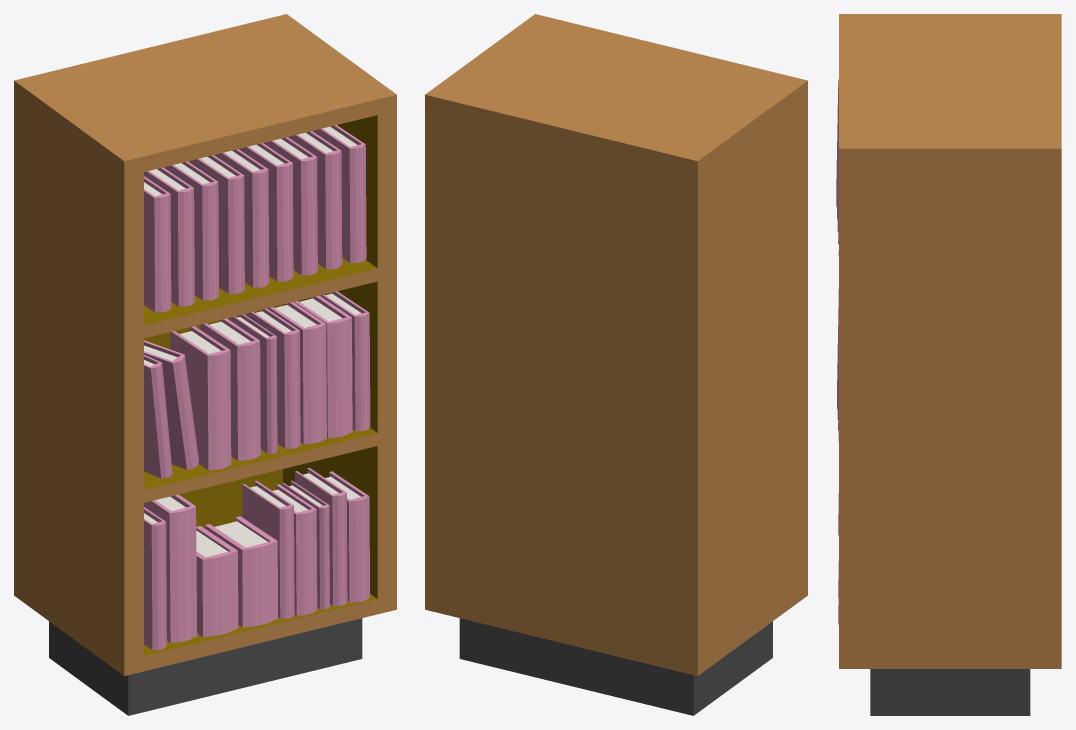
Rendered from bookshelf_1.fbx.
3 renders of one model, left to right at view 1: azimuth 30°, elevation 25°; view 2: azimuth 150°, elevation 25°; view 3: azimuth 270°, elevation 25°, orthographic.
Parts seen in each view (by area): view 1: mesh_Bookshelf1, Book1.120, Book1.137, Book1.114, Book1.133, Book1.136, Book1.117, Book1.118, Book1.123, Book1.130, Book1.124, Book1.132 (+16 smaller); view 2: mesh_Bookshelf1; view 3: mesh_Bookshelf1.
Boxes of the visible parts, x1,y1,x2,y2 form: mesh_Bookshelf1: (14,14,396,715); Book1.120: (170,326,231,470); Book1.137: (144,494,197,642); Book1.114: (200,318,260,460); Book1.133: (205,516,278,627); Book1.136: (196,526,238,637); Book1.117: (267,302,326,444); Book1.118: (294,295,352,437); Book1.123: (190,155,244,293); Book1.130: (165,161,219,300); Book1.124: (215,149,269,287); Book1.132: (242,480,294,618); mesh_Bookshelf1: (425,14,807,715); mesh_Bookshelf1: (839,14,1061,715).
Bounding box in the file's own units: 100 × 200 × 70.87.
